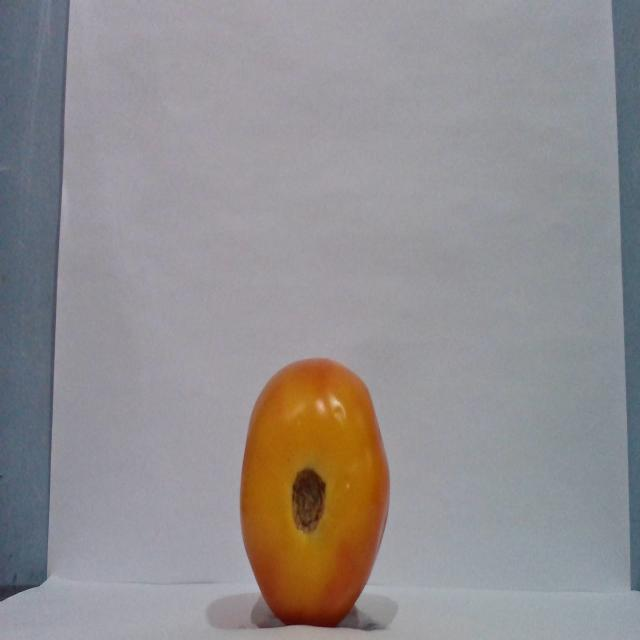Red: (238, 356, 391, 626)
